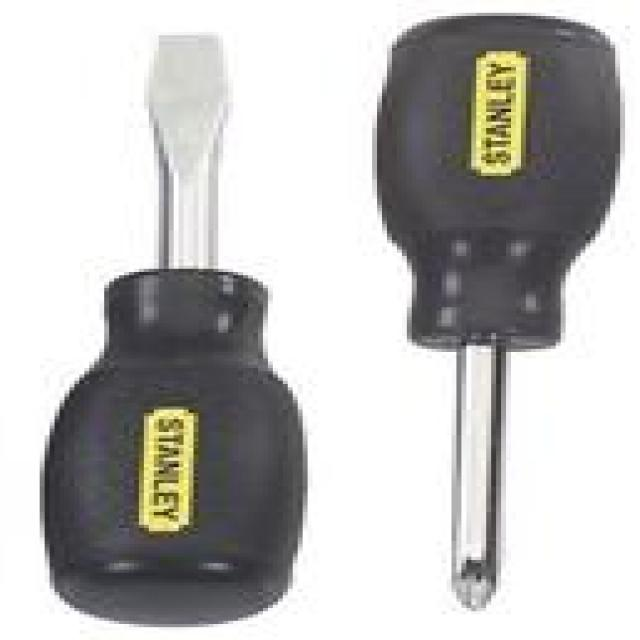screw driver: (338, 8, 594, 621), (63, 22, 327, 616)
